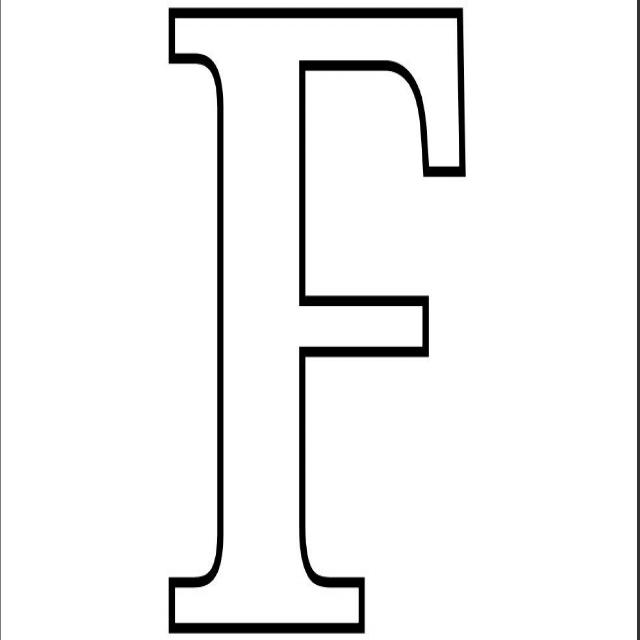F: (137, 0, 500, 640)
